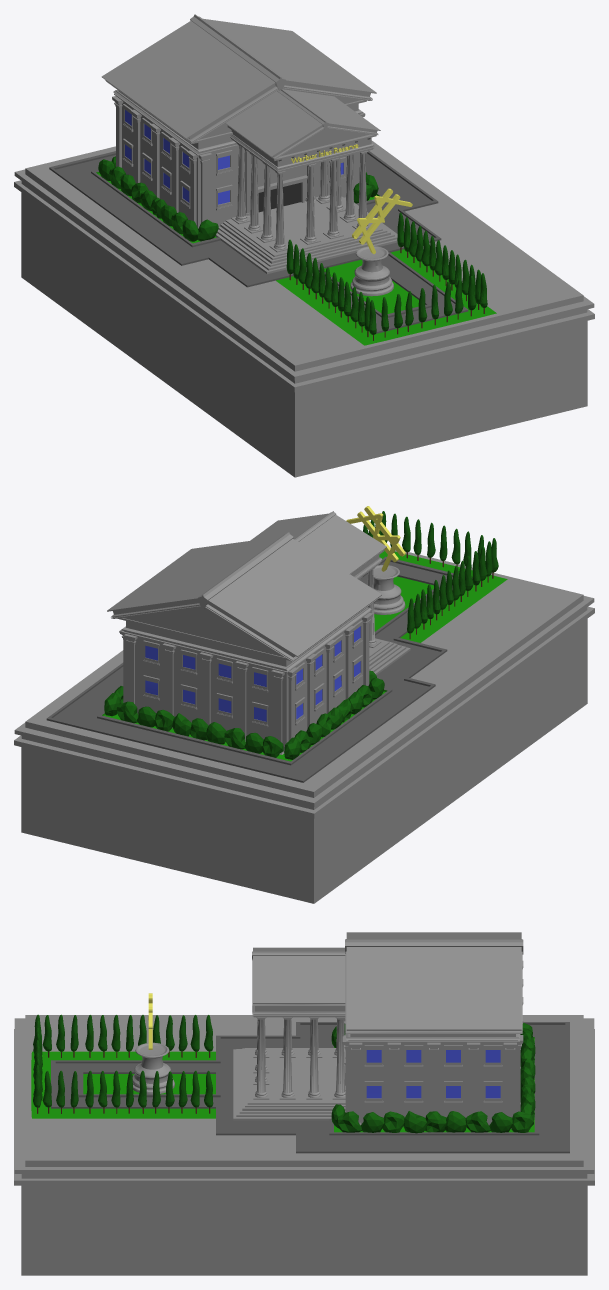
The model's file is IslesOfWarBank.fbx.
3 views of the same model, one above another, from view 1: azimuth 30°, elevation 25°; view 2: azimuth 150°, elevation 25°; view 3: azimuth 270°, elevation 25° (orthographic). The views are drawn at different scales.
Parts seen in each view (by area): view 1: Bank_LOD0; view 2: Bank_LOD0; view 3: Bank_LOD0.
Boxes of the visible parts, x1=… form: Bank_LOD0: x1=14, y1=14, x2=594, y2=477; Bank_LOD0: x1=14, y1=506, x2=594, y2=903; Bank_LOD0: x1=14, y1=932, x2=594, y2=1275.
Size of what is drawn, in the model's own units: 2713 by 2167 by 4391.
